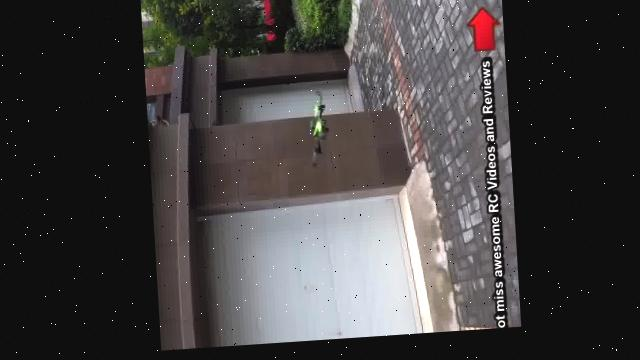drone: (294, 92, 335, 165)
